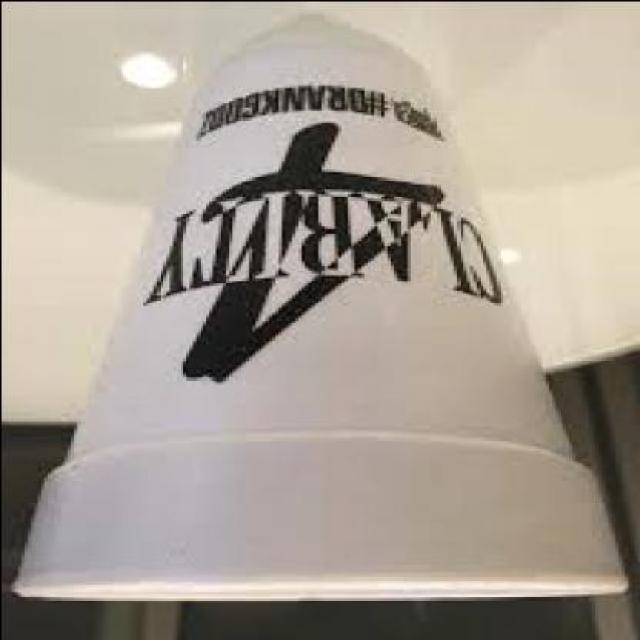PAPER: (20, 25, 626, 600)
